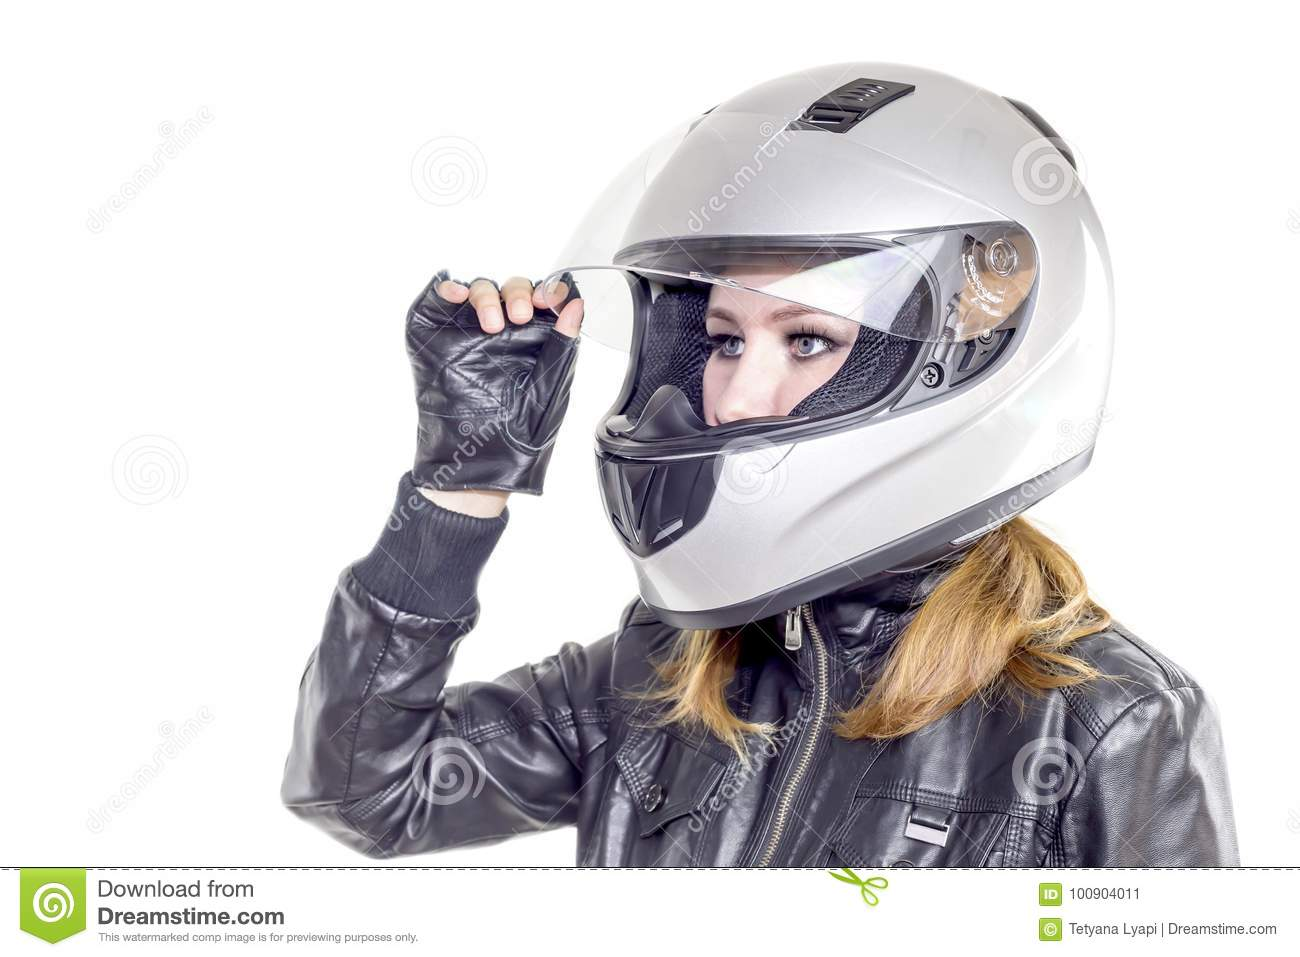helmet: (585, 63, 1099, 598)
